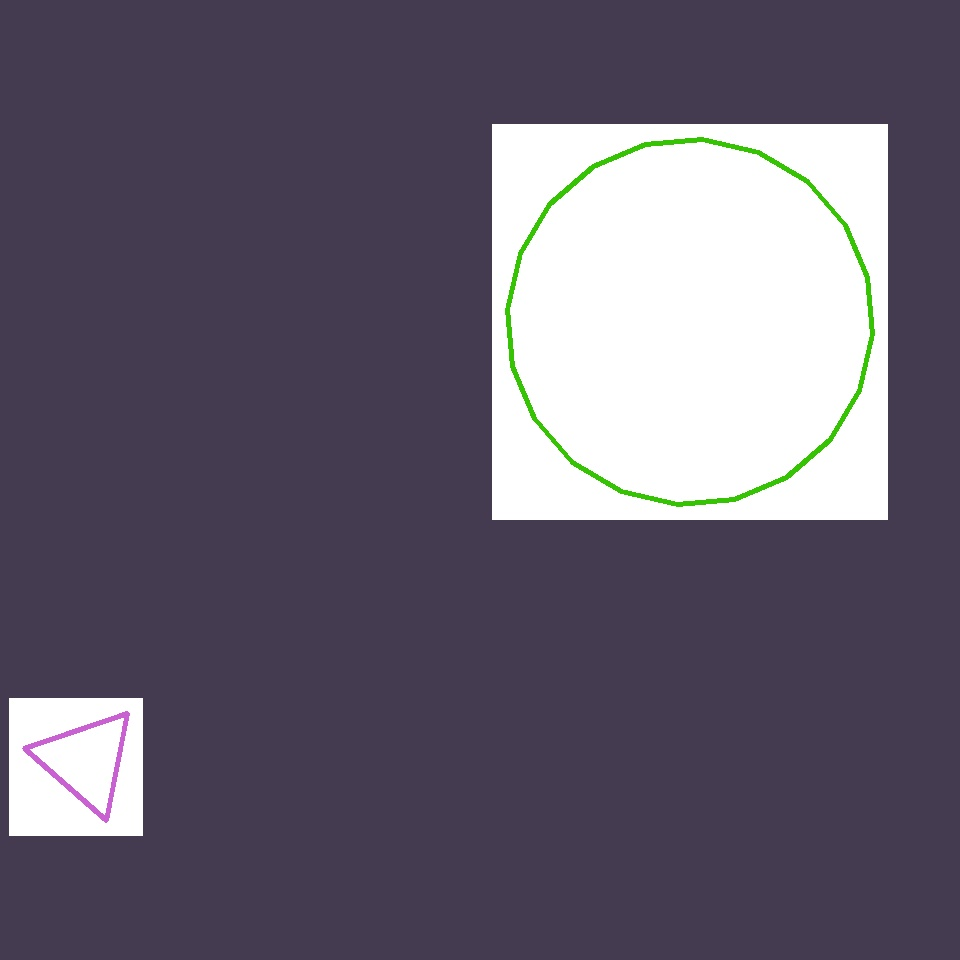circle: (702, 285, 860, 451), (35, 708, 138, 815)
square: (438, 546, 788, 896), (356, 570, 576, 788)
triangle: (508, 139, 872, 504), (130, 125, 390, 384)
